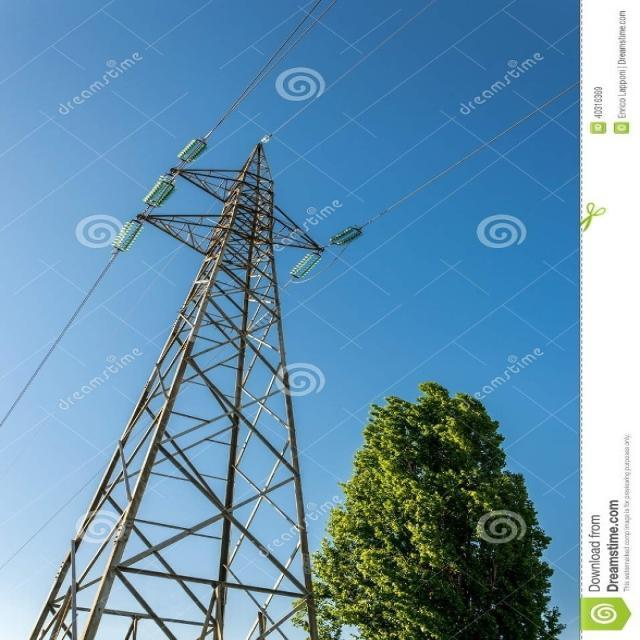utility poles: (116, 109, 554, 640)
